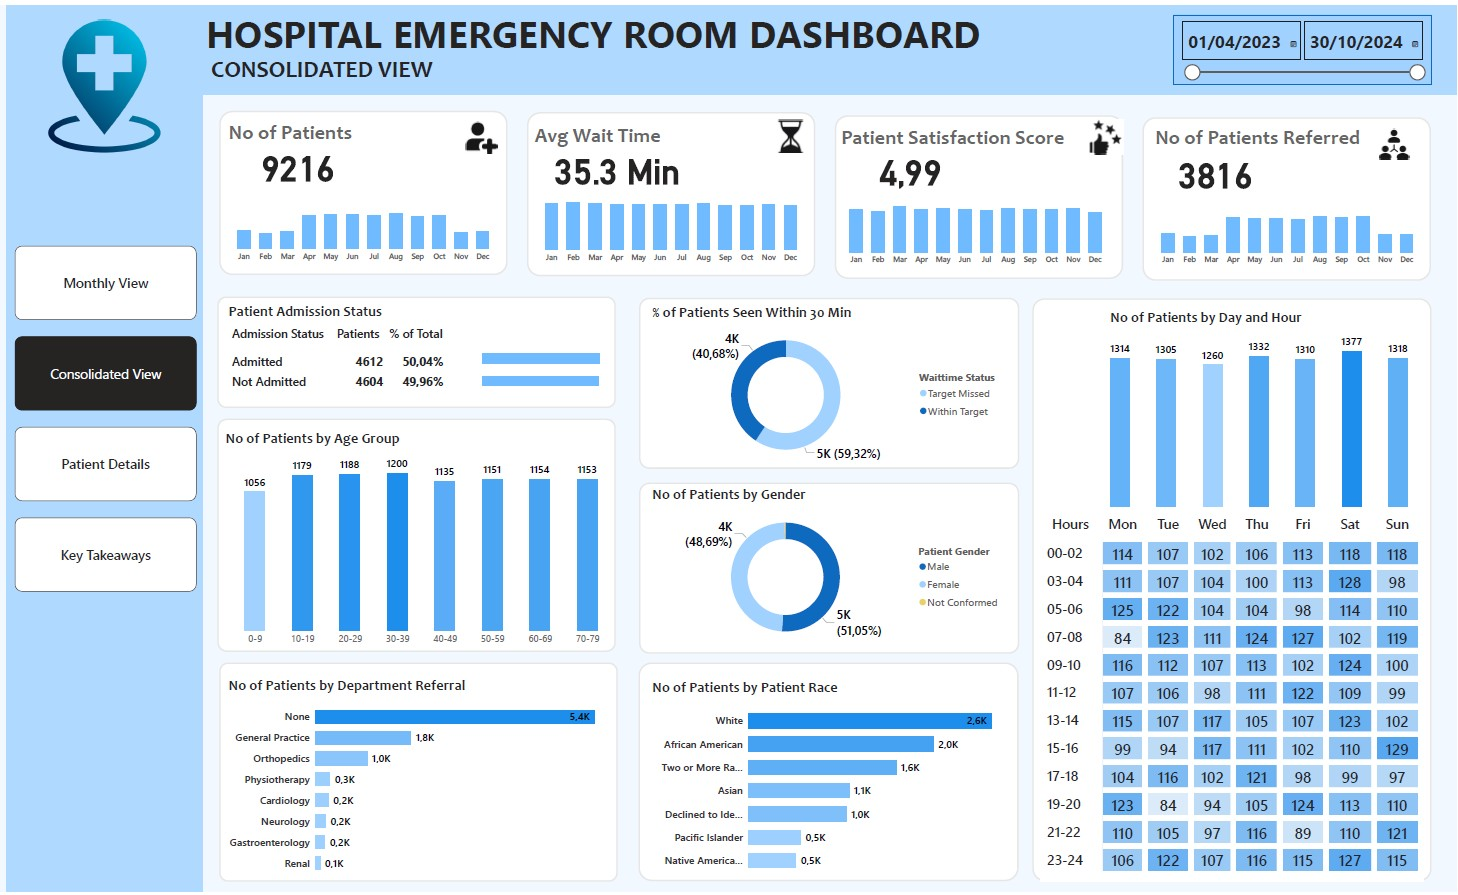

Layout of this report page (visuals, bound fields, positions):
{"tool":"powerbi","page":{"name":"Consolidated View","canvas":[2300,1400],"ordinal":1},"visuals":[{"type":"shape","box":[9.9,0,310,1400.5],"z":0},{"type":"shape","box":[320.5,0,1980,140.5],"z":1000},{"type":"textbox","box":[320,0,1255,100],"z":2000},{"type":"textbox","box":[320,72.5,380,67.5],"z":3000},{"type":"shape","box":[345.9,166.9,455,258.8],"z":4000},{"type":"card","fields":{"Values":["Hospital ER_Data.No of Patients"]},"box":[389.4,205.6,162.1,91.9],"z":5000},{"type":"slicer","fields":{"Values":["Date Table.Date"]},"box":[1852.5,15,407.5,110],"z":6000},{"type":"textbox","box":[355.6,176.6,249.1,62.9],"z":7000},{"type":"columnChart","fields":{"Category":["Date Table.Month Name"],"Y":["Hospital ER_Data.No of Patients"]},"box":[355.6,288.6,435.4,125],"z":8000},{"type":"shape","box":[832.2,169.3,454.7,258.8],"z":9000},{"type":"card","fields":{"Values":["Hospital ER_Data.Avg Wait Time"]},"box":[863.5,210.4,220.1,91.9],"z":10000},{"type":"textbox","box":[839.3,181.4,263.7,62.9],"z":11000},{"type":"columnChart","fields":{"Category":["Date Table.Month Name"],"Y":["Avg(Hospital ER_Data.Patient Waittime)"]},"box":[841.7,291,435.4,125],"z":12000},{"type":"shape","box":[1318.2,173.5,455,258.8],"z":13000},{"type":"card","fields":{"Values":["Hospital ER_Data.Satisfaction Score"]},"box":[1355.7,212.1,162.1,91.9],"z":14000},{"type":"textbox","box":[1323.1,183.8,406.4,62.9],"z":15000},{"type":"columnChart","fields":{"Category":["Date Table.Month Name"],"Y":["Hospital ER_Data.Satisfaction Score"]},"box":[1322.5,295,435,125],"z":16000},{"type":"shape","box":[1804.4,176.6,455,258.8],"z":17000},{"type":"card","fields":{"Values":["Hospital ER_Data.No of Patient Referred"]},"box":[1837.8,216.2,162.1,91.9],"z":18000},{"type":"textbox","box":[1818.9,183.8,365.2,62.9],"z":19000},{"type":"columnChart","fields":{"Category":["Date Table.Month Name"],"Y":["Hospital ER_Data.No of Patient Referred"]},"box":[1815,295,435,125],"z":20000},{"type":"shape","box":[343.5,459.6,628.9,176.6],"z":21000},{"type":"pivotTable","title":"Patient Admission Status","fields":{"Rows":["Hospital ER_Data.Admission Status"],"Values":["Hospital ER_Data.No of Patients1","Hospital ER_Data.No of Patients"]},"box":[355.6,469.2,616.8,157.2],"z":22000},{"type":"barChart","fields":{"Category":["Hospital ER_Data.Admission Status"],"Y":["Hospital ER_Data.No of Patients"]},"box":[757.1,520,249.1,106.4],"z":23000},{"type":"shape","box":[343.5,653.1,628.9,368],"z":24000},{"type":"clusteredColumnChart","fields":{"Category":["Hospital ER_Data.Age Group"],"Y":["Hospital ER_Data.No of Patients"]},"box":[350.7,670,628.9,350.7],"z":25000},{"type":"shape","box":[345.9,1037.7,628.9,345.9],"z":26000},{"type":"clusteredBarChart","fields":{"Category":["Hospital ER_Data.Department Referral"],"Y":["Hospital ER_Data.No of Patients"]},"box":[355.6,1059.4,616.8,324.1],"z":27000},{"type":"shape","box":[1008.6,462,600,270],"z":28000},{"type":"donutChart","title":"% of Patients Seen Within 30 Min","fields":{"Category":["Hospital ER_Data.Waittime Status"],"Y":["Hospital ER_Data.No of Patients"]},"box":[1025,470,565,262.5],"z":29000},{"type":"shape","box":[1008.6,754,600,270],"z":30000},{"type":"donutChart","title":"No of Patients by Gender","fields":{"Y":["Hospital ER_Data.No of Patients"],"Category":["Hospital ER_Data.Patient Gender"]},"box":[1025,757.5,565,262.5],"z":31000},{"type":"shape","box":[1007.5,1037.5,600,345],"z":32000},{"type":"clusteredBarChart","fields":{"Y":["Hospital ER_Data.No of Patients"],"Category":["Hospital ER_Data.Patient Race"]},"box":[1025,1062.5,575,320],"z":33000},{"type":"shape","box":[1630,462.5,630,920],"z":34000},{"type":"pivotTable","fields":{"Rows":["Hospital ER_Data.Waittime Interval"],"Columns":["Date Table.Day Name"],"Values":["Hospital ER_Data.No of Patients"]},"box":[1642.5,797.5,605,585],"z":35000},{"type":"columnChart","title":"No of Patients by Day and Hour","fields":{"Category":["Date Table.Day Name"],"Y":["Hospital ER_Data.No of Patients"]},"box":[1747.5,477.5,482.5,320],"z":36000},{"type":"image","box":[730,177.5,60,62.5],"z":37000},{"type":"image","box":[1217.5,172.5,60,67.5],"z":38000},{"type":"image","box":[1710,175,70,65],"z":39000},{"type":"image","box":[2155,190,92.5,57.5],"z":40000},{"type":"image","box":[55,15,220,225],"z":41000},{"type":"pageNavigator","box":[22.5,380,287.5,547.5],"z":42000}]}

Visuals, with their boxes in screenshot pixels (x1, y1, x2, y2), scaled from the page's 2300x1400 canvas onto the 1458x895 screenshot:
shape: (6,0,203,894)
shape: (203,0,1457,90)
textbox: (203,0,998,64)
textbox: (203,46,444,90)
shape: (219,107,508,272)
card - Hospital ER_Data.No of Patients: (247,131,350,190)
slicer - Date Table.Date: (1174,10,1433,80)
textbox: (225,113,383,153)
columnChart - Date Table.Month Name x Hospital ER_Data.No of Patients: (225,184,501,264)
shape: (528,108,816,274)
card - Hospital ER_Data.Avg Wait Time: (547,135,687,193)
textbox: (532,116,699,156)
columnChart - Date Table.Month Name x Avg(Hospital ER_Data.Patient Waittime): (534,186,810,266)
shape: (836,111,1124,276)
card - Hospital ER_Data.Satisfaction Score: (859,136,962,194)
textbox: (839,118,1096,158)
columnChart - Date Table.Month Name x Hospital ER_Data.Satisfaction Score: (838,189,1114,268)
shape: (1144,113,1432,278)
card - Hospital ER_Data.No of Patient Referred: (1165,138,1268,197)
textbox: (1153,118,1385,158)
columnChart - Date Table.Month Name x Hospital ER_Data.No of Patient Referred: (1151,189,1426,268)
shape: (218,294,616,407)
"Patient Admission Status" pivotTable: (225,300,616,400)
barChart - Hospital ER_Data.Admission Status x Hospital ER_Data.No of Patients: (480,332,638,400)
shape: (218,418,616,653)
clusteredColumnChart - Hospital ER_Data.Age Group x Hospital ER_Data.No of Patients: (222,428,621,653)
shape: (219,663,618,885)
clusteredBarChart - Hospital ER_Data.Department Referral x Hospital ER_Data.No of Patients: (225,677,616,884)
shape: (639,295,1020,468)
"% of Patients Seen Within 30 Min" donutChart: (650,300,1008,468)
shape: (639,482,1020,655)
"No of Patients by Gender" donutChart: (650,484,1008,652)
shape: (639,663,1019,884)
clusteredBarChart - Hospital ER_Data.No of Patients x Hospital ER_Data.Patient Race: (650,679,1014,884)
shape: (1033,296,1433,884)
pivotTable - Hospital ER_Data.Waittime Interval x Date Table.Day Name: (1041,510,1425,884)
"No of Patients by Day and Hour" columnChart: (1108,305,1414,510)
image: (463,113,501,153)
image: (772,110,810,153)
image: (1084,112,1128,153)
image: (1366,121,1425,158)
image: (35,10,174,153)
pageNavigator: (14,243,197,593)
